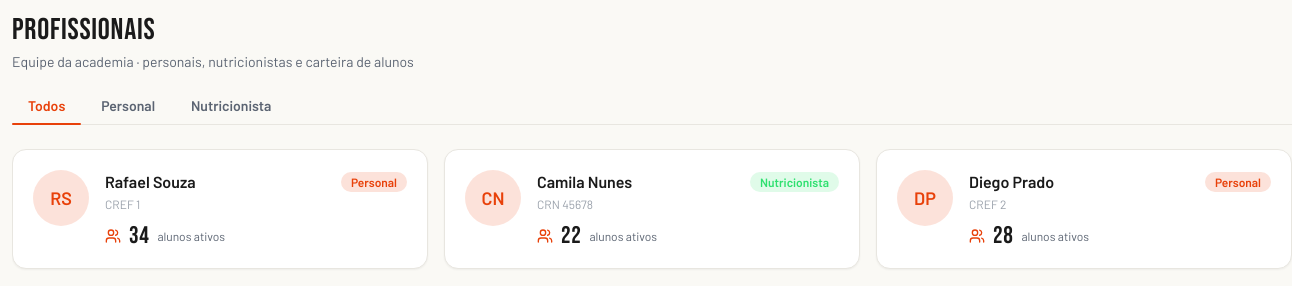
Test: ProfissionaisView › filtra a equipe pelo papel selecionado
The image size is (1292, 286).
Expected: the heading "Rafael Souza" is shown, [105, 170, 196, 194]
Click the button "Nutricionista": (231, 106) [175, 88, 287, 124]
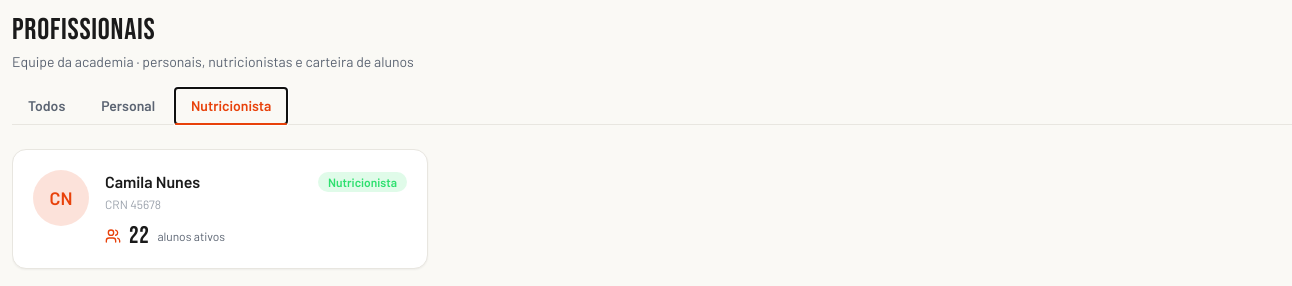
Expected: the heading "Camila Nunes" is shown, [105, 170, 200, 194]
Expected: the button "Rafael Souza" is gone
Expected: the button "Diego Prado" is gone
